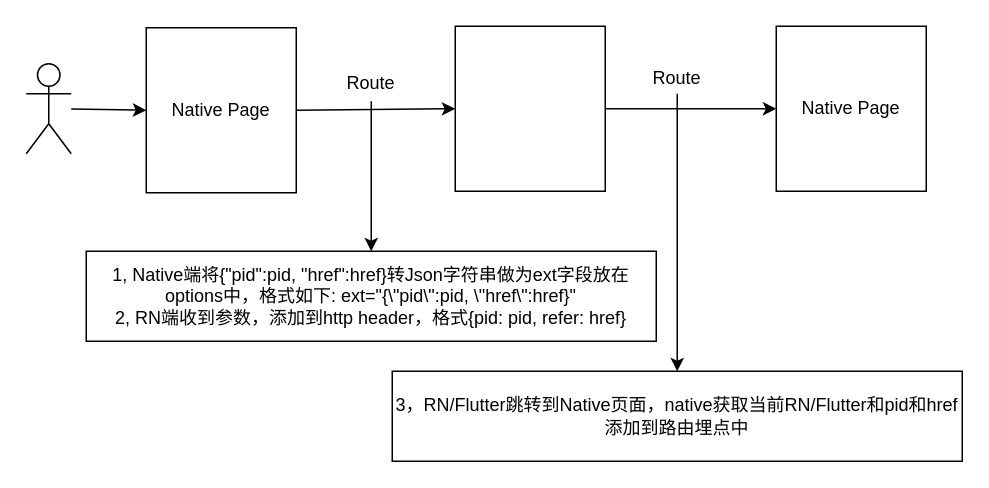
Some shapes in this 989 by 488 pixel diagram are drawn without their labels. Here are the shapes that lost their labels. From the top down, the centre of each, then its label:
the point at 48,108: Actor
the point at 529,108: RN Flutter
